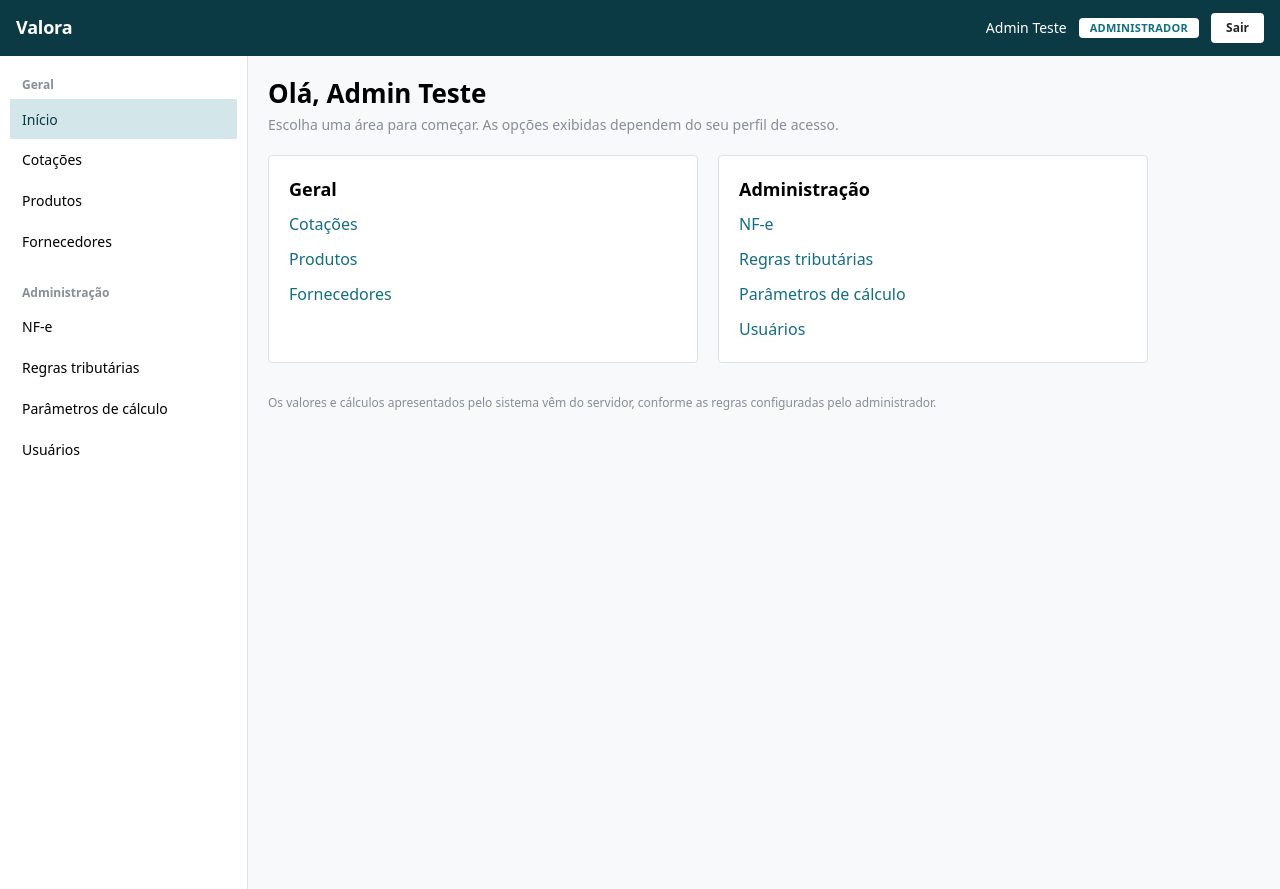
Test: permissões de cotações e comparações › ADMIN acessa cotações, nova cotação e comparação pelo menu e pela URL
This screenshot has width=1280, height=889.
Click the link "Cotações" below "Início": (52, 160) [22,150,82,169]
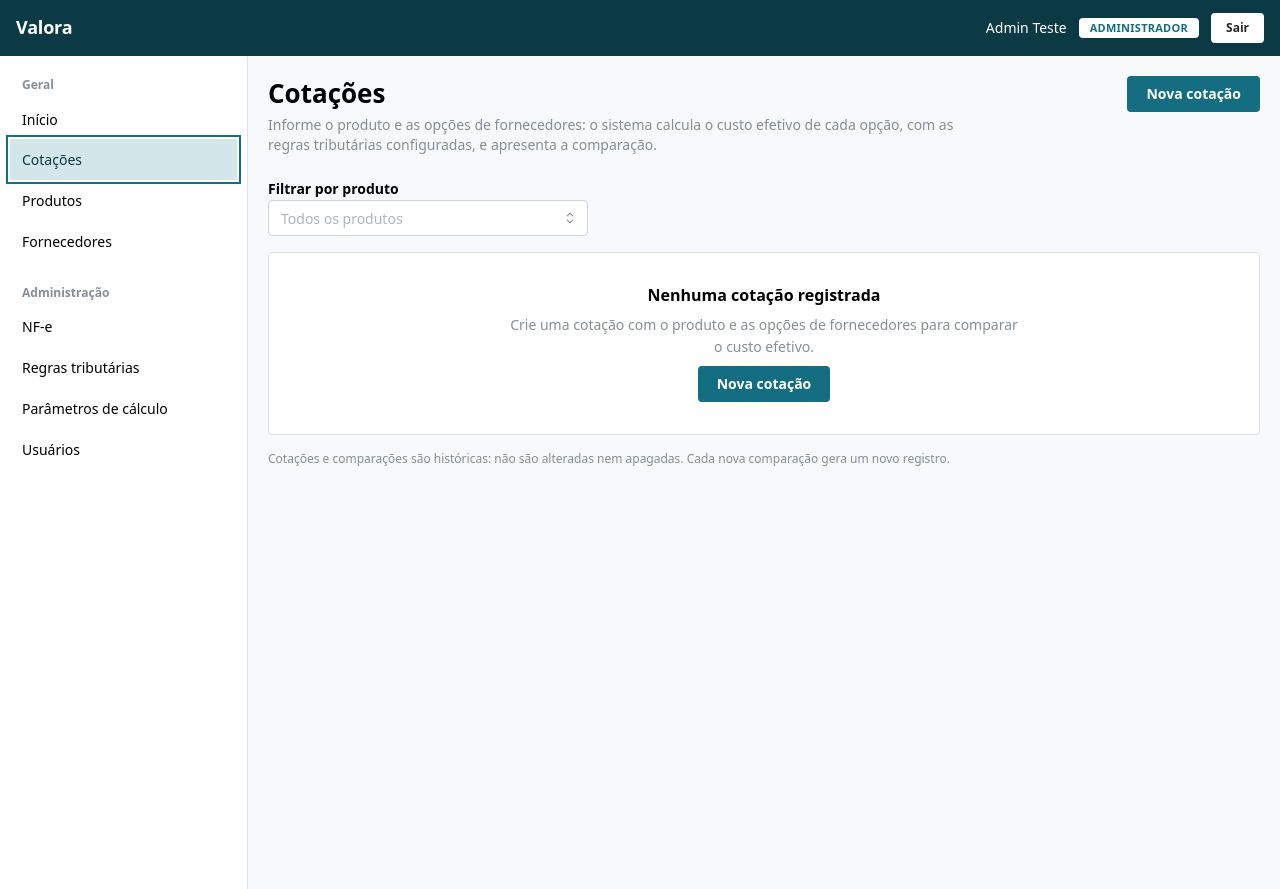
expect the text "Nenhuma cotação registrada" is shown: met, box [648,286,880,306]
Click the 1st link "Nova cotação": (1194, 94) [1128,76,1260,112]
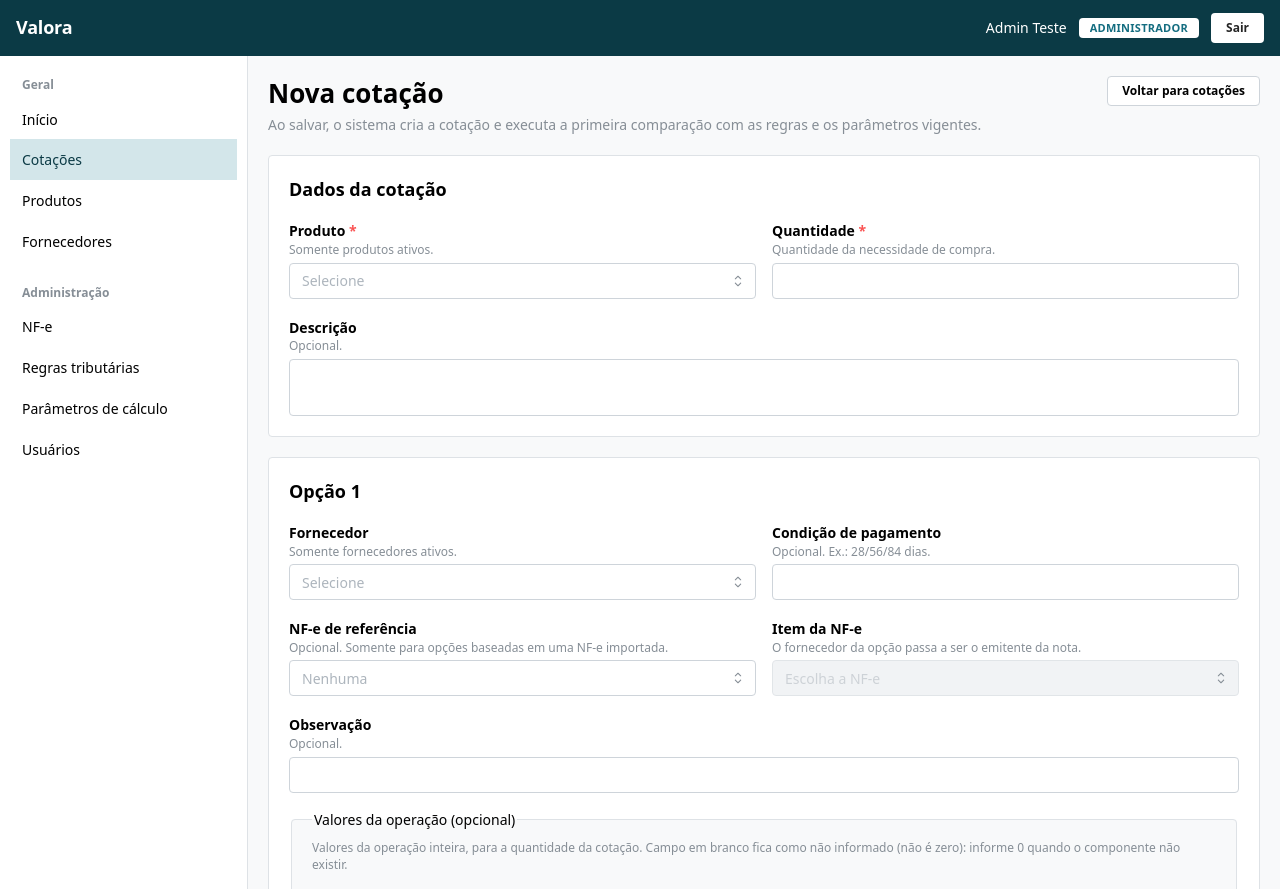
expect the heading "Nova cotação" is shown: met, box [268,75,444,111]
